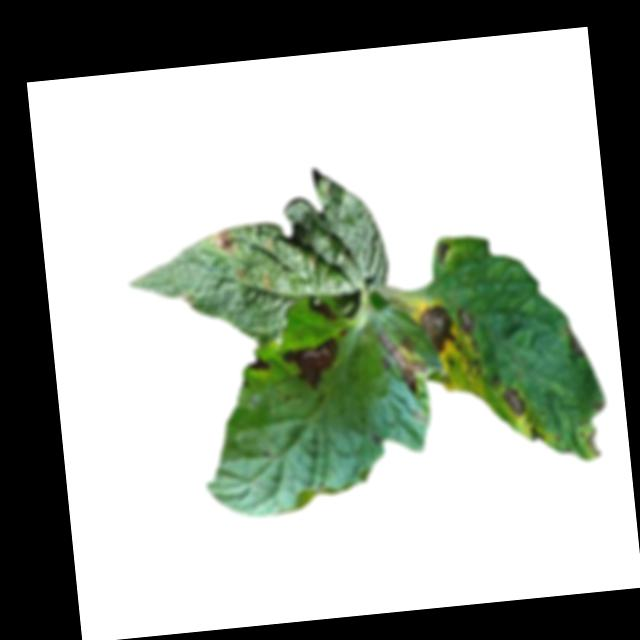Early_blight: (377, 323, 427, 392), (282, 336, 343, 390), (419, 300, 459, 357), (455, 303, 480, 340), (308, 295, 338, 322), (503, 385, 528, 417), (211, 227, 236, 258), (565, 326, 586, 358), (585, 421, 603, 456), (434, 238, 455, 264), (246, 350, 269, 372), (529, 422, 547, 440)
